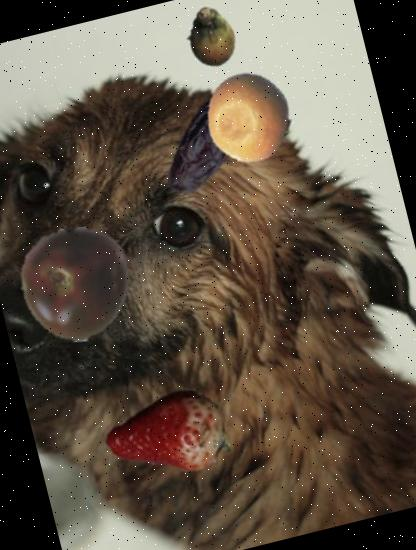Cactus: (178, 3, 248, 73)
Dates: (142, 85, 268, 211)
Kumquats: (194, 63, 304, 173)
Strawberry: (95, 366, 238, 509)
Tomato: (6, 215, 146, 354)
